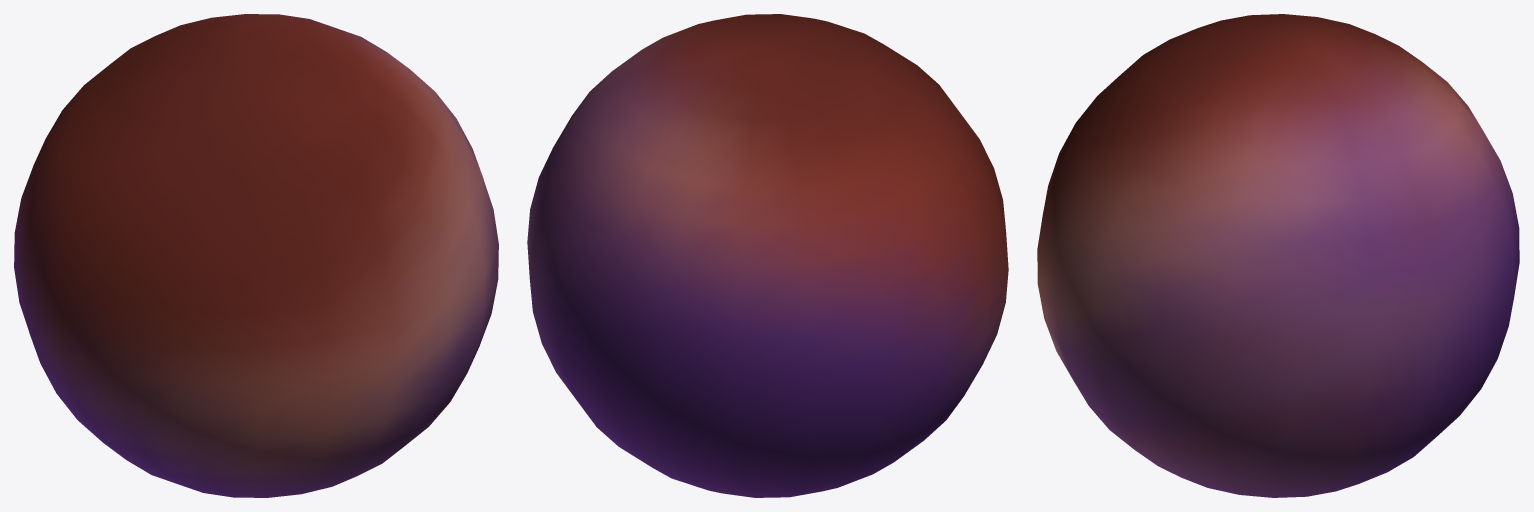
Rendered from SphereModda_updated (1).fbx.
3 renders of one model, left to right at view 1: azimuth 30°, elevation 25°; view 2: azimuth 150°, elevation 25°; view 3: azimuth 270°, elevation 25°, orthographic.
Parts seen in each view (by area): view 1: pSphere1; view 2: pSphere1; view 3: pSphere1.
Part boxes in pixels (x1,y1,x2,y2): pSphere1: (14, 14, 498, 497); pSphere1: (527, 14, 1008, 497); pSphere1: (1037, 14, 1519, 497).
Size of the model in its own units: 5.95 by 5.95 by 5.94.
